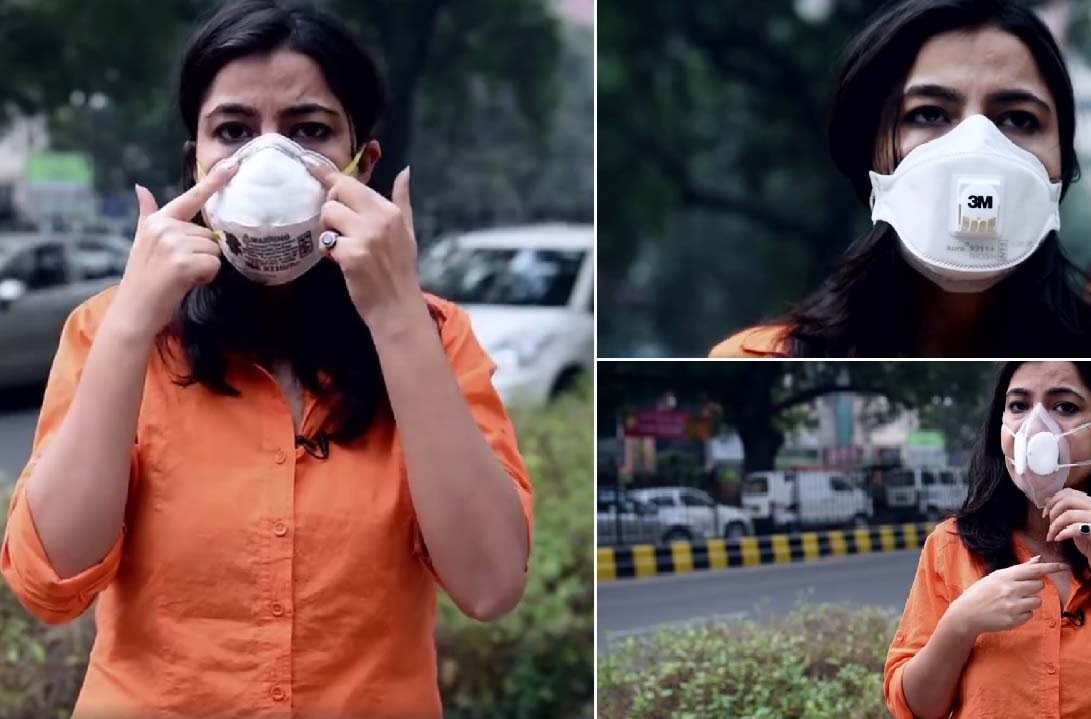with_mask: (860, 29, 1080, 296), (175, 58, 366, 298), (990, 362, 1091, 533)
